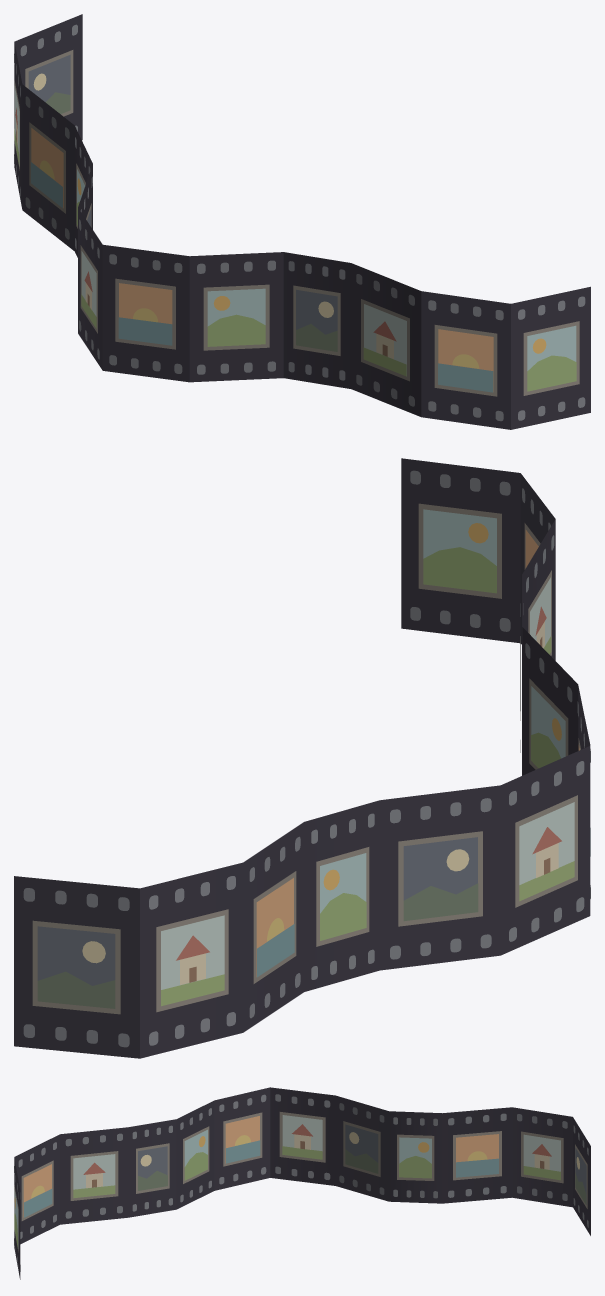
Rendered from film-strip.glb.
3 renders of one model, top to bottom at view 1: azimuth 30°, elevation 25°; view 2: azimuth 150°, elevation 25°; view 3: azimuth 270°, elevation 25°, orthographic. The views are drawn at different scales.
Parts seen in each view (by area): view 1: body; view 2: body; view 3: body.
Boxes of the visible parts, x1,y1,x2,y2 form: body: (14, 14, 590, 429); body: (14, 458, 590, 1058); body: (14, 1087, 590, 1279).
Size of the model in its own units: 3.91 by 1.74 by 8.67.
